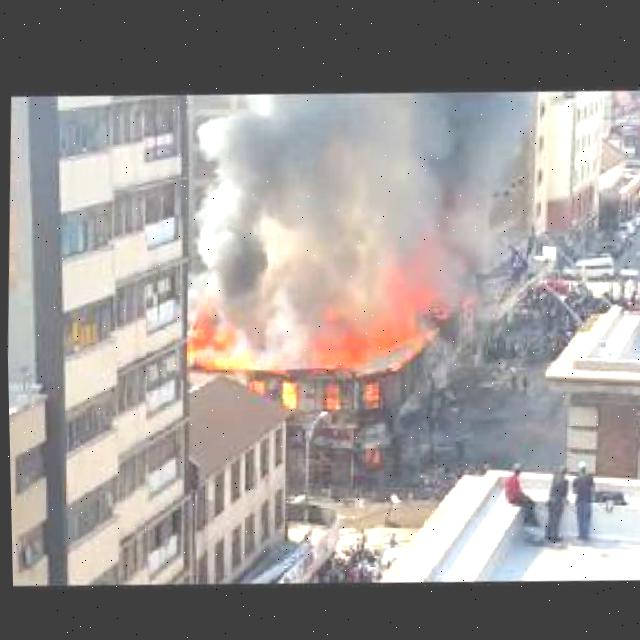Fire: (178, 292, 443, 388)
Smoke: (198, 62, 529, 304)
